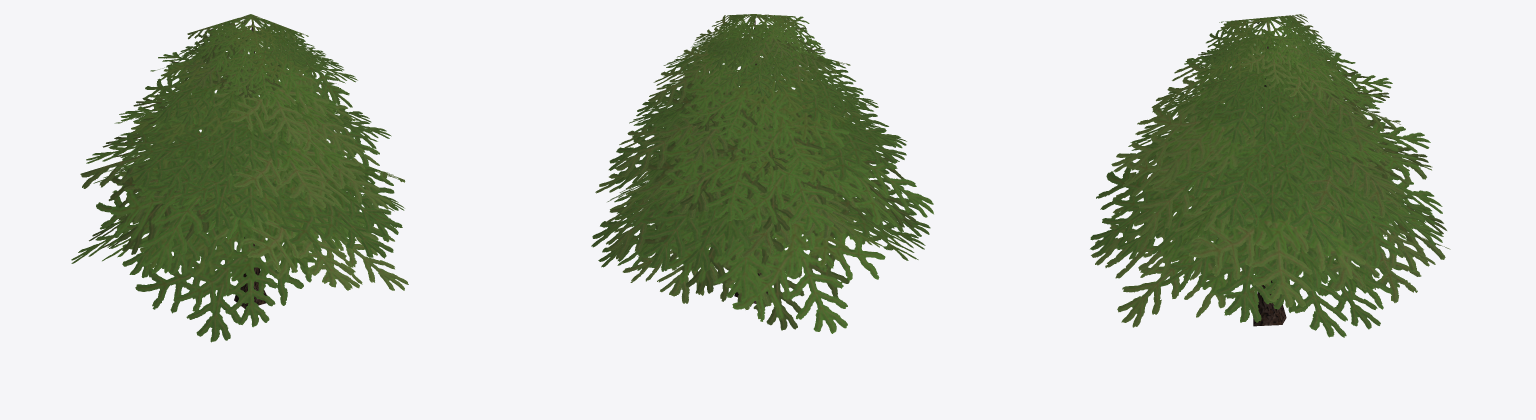
Rendered from Fir01.fbx.
The picture shows the model from 3 angles, left to right: view 1: azimuth 30°, elevation 25°; view 2: azimuth 150°, elevation 25°; view 3: azimuth 270°, elevation 25°; orthographic projection. The views are drawn at different scales.
Visible parts, largest first — view 1: Fir01; view 2: Fir01; view 3: Fir01.
Part boxes in pixels (box(x1,y1,x2,y2)): Fir01: box(71, 14, 408, 342); Fir01: box(591, 14, 933, 333); Fir01: box(1090, 14, 1450, 337).
Bounding box in the file's own units: 889 × 606 × 889.
